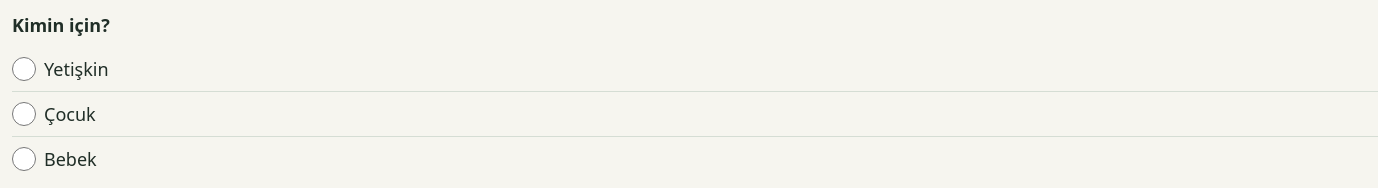
it: RadioGroup › grubu legend ile adlandırır ve seçimi bildirir
Click the radio button labelled "Çocuk".
click(24, 114)  # box [12,102,36,126]
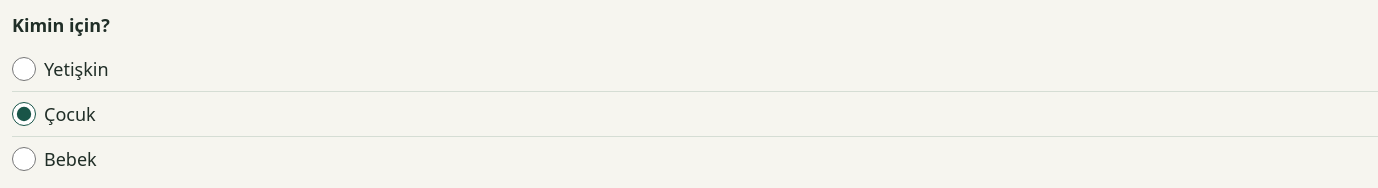
Expected: the radio button labelled "Yetişkin" is not checked, [12,57,36,81]
Result: the radio button labelled "Çocuk" is checked at [12,102,36,126]
